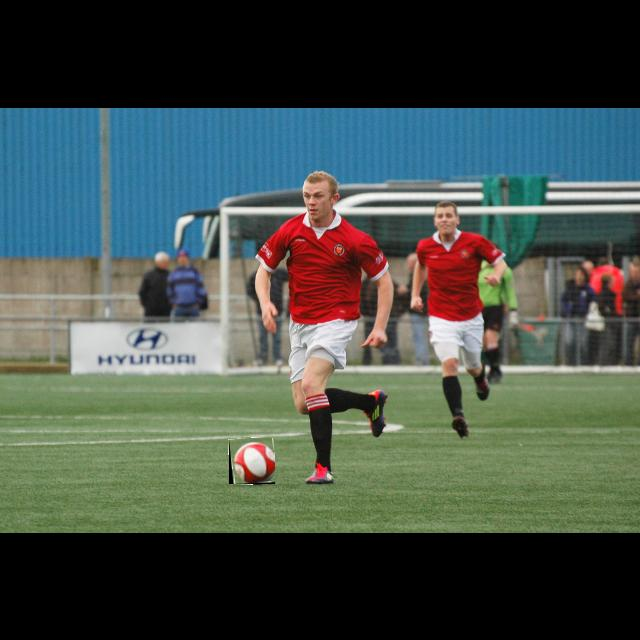Football: (229, 438, 275, 484)
